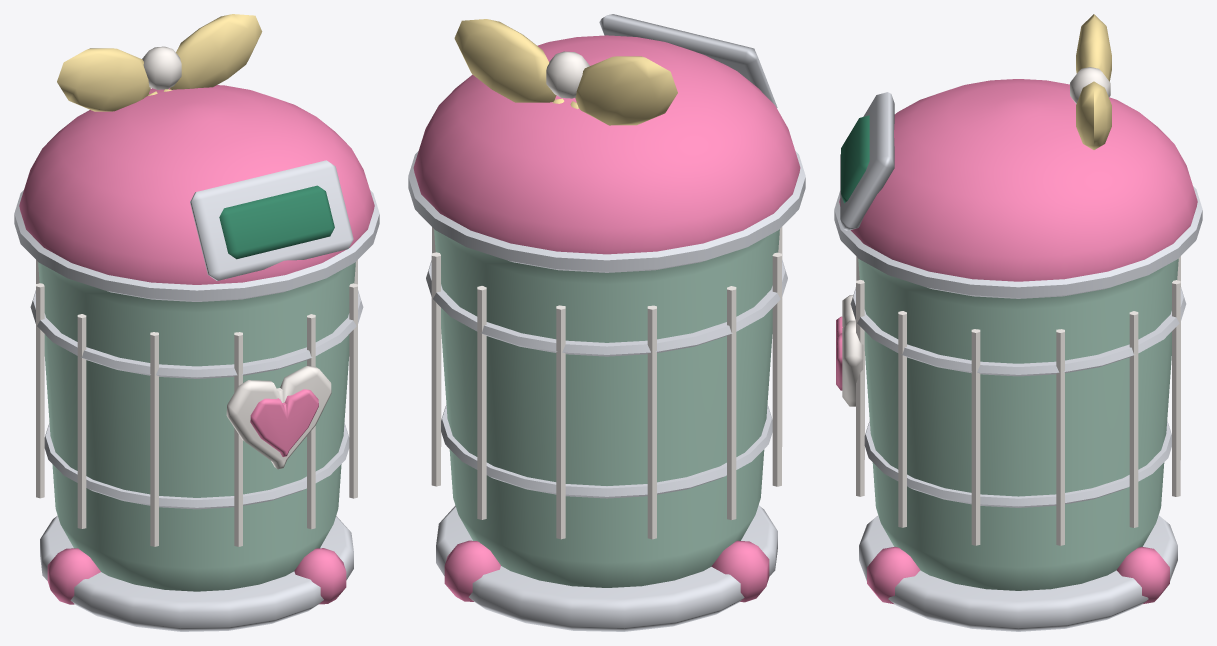
The model's file is trash_bin_cute.glb.
The picture shows the model from 3 angles, left to right: view 1: azimuth 30°, elevation 25°; view 2: azimuth 150°, elevation 25°; view 3: azimuth 270°, elevation 25°; orthographic projection. The views are drawn at different scales.
Visible parts, largest first — view 1: trash_bin_cute; view 2: trash_bin_cute; view 3: trash_bin_cute.
Boxes of the visible parts, x1,y1,x2,y2 form: trash_bin_cute: (14, 14, 379, 631); trash_bin_cute: (408, 14, 805, 631); trash_bin_cute: (834, 14, 1202, 631).
Size of the model in its own units: 0.8785 by 1.36 by 0.8785.
